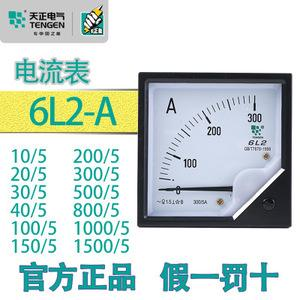pointer: (148, 81, 282, 221)
